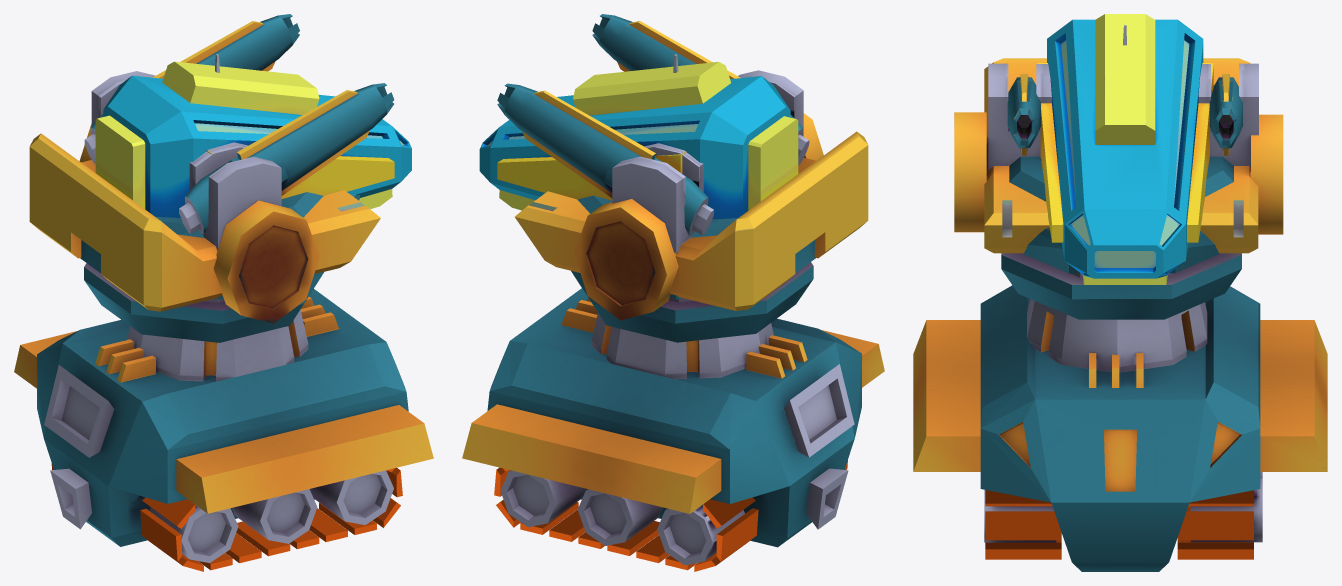
Rendered from Player_Idle_1_Upgrade19.obj.
3 renders of one model, left to right at view 1: azimuth 30°, elevation 25°; view 2: azimuth 150°, elevation 25°; view 3: azimuth 270°, elevation 25°, orthographic. The views are drawn at different scales.
Parts seen in each view (by area): view 1: Object008, Object014, Box009, Box017; view 2: Object008, Object014, Box009, Box016; view 3: Object008, Box017, Box016, Object014, Box009.
Boxes of the visible parts, x1=… form: Object008: x1=14, y1=61, x2=433, y2=546; Object014: x1=84, y1=14, x2=394, y2=234; Box009: x1=149, y1=470, x2=393, y2=562; Box017: x1=140, y1=467, x2=402, y2=571; Object008: x1=462, y1=61, x2=884, y2=547; Object014: x1=497, y1=14, x2=809, y2=236; Box009: x1=500, y1=470, x2=744, y2=565; Box016: x1=494, y1=467, x2=758, y2=571; Object008: x1=913, y1=14, x2=1327, y2=571; Box017: x1=985, y1=490, x2=1061, y2=559; Box016: x1=1177, y1=490, x2=1253, y2=559; Object014: x1=1007, y1=74, x2=1242, y2=155; Box009: x1=984, y1=472, x2=1262, y2=542.
Bounding box in the file's own units: 65.77 × 84.81 × 66.14.
4 materials, 2 textured.
